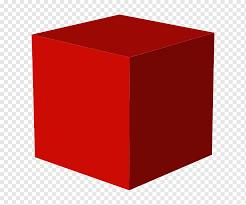cube: (32, 15, 214, 189)
